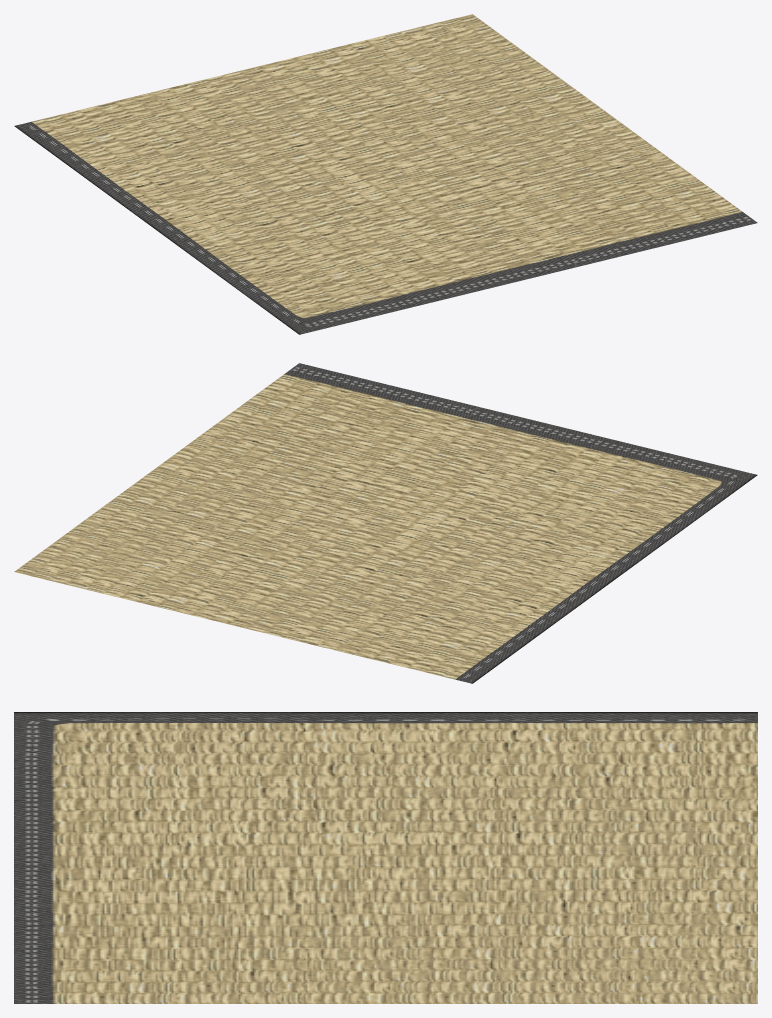
File: Tatami_Carpet_U.fbx
3 views of the same model, one above another, from view 1: azimuth 30°, elevation 25°; view 2: azimuth 150°, elevation 25°; view 3: azimuth 270°, elevation 25° (orthographic). The views are drawn at different scales.
Parts seen in each view (by area): view 1: Tatami Carpet U; view 2: Tatami Carpet U; view 3: Tatami Carpet U.
Boxes of the visible parts, box(x1,y1,x2,y2) form: Tatami Carpet U: box(14, 14, 757, 334); Tatami Carpet U: box(14, 363, 757, 683); Tatami Carpet U: box(14, 712, 757, 1003).
Bounding box in the file's own units: 113 × 2.75e-05 × 122.
